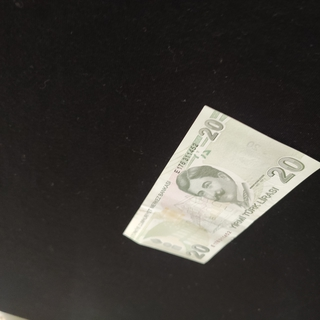20TLBack: (122, 104, 320, 265)
